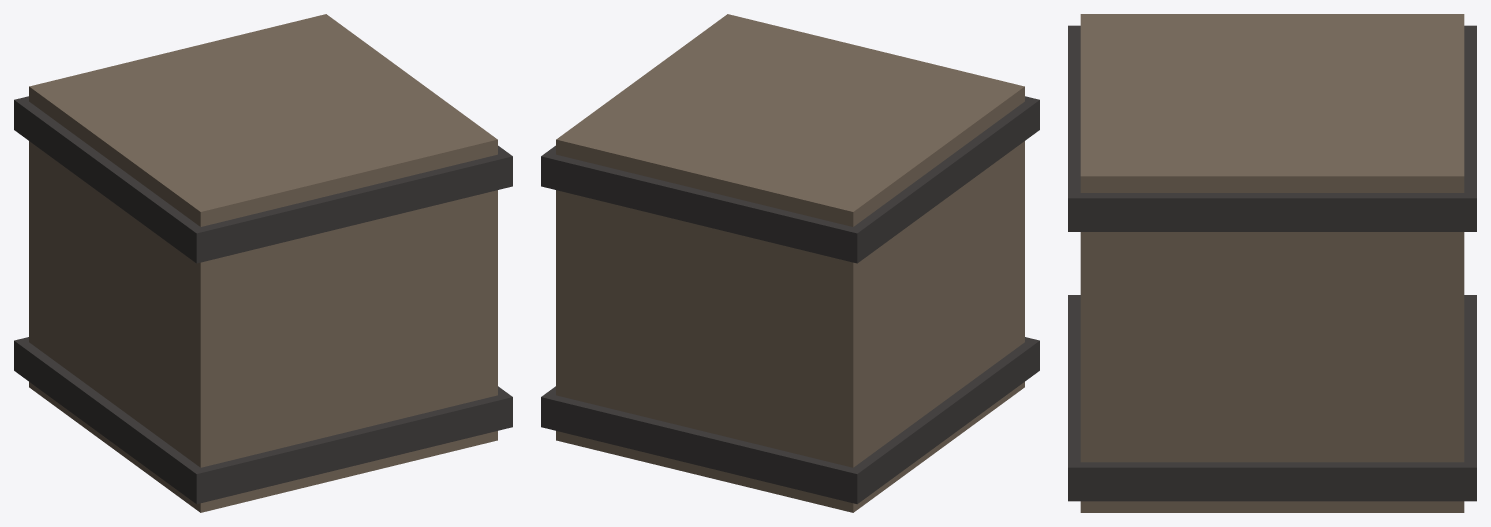
The model's file is Crate.fbx.
3 views of the same model, side by side, from view 1: azimuth 30°, elevation 25°; view 2: azimuth 150°, elevation 25°; view 3: azimuth 270°, elevation 25° (orthographic). The views are drawn at different scales.
Visible parts, largest first — view 1: Crate; view 2: Crate; view 3: Crate.
Boxes of the visible parts, x1,y1,x2,y2 form: Crate: [14, 14, 512, 512]; Crate: [541, 14, 1039, 512]; Crate: [1068, 14, 1476, 512].
Size of the model in its own units: 66 by 60 by 66.
